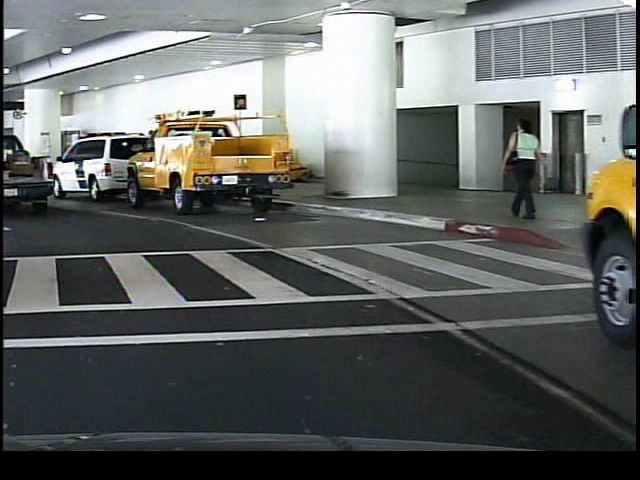person: (496, 113, 543, 225)
